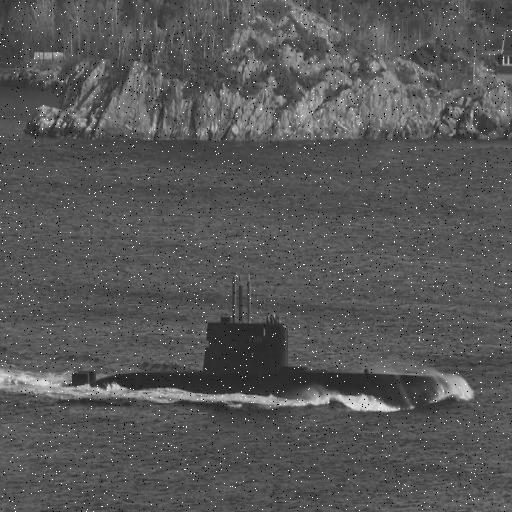submarine: (69, 268, 474, 412)
